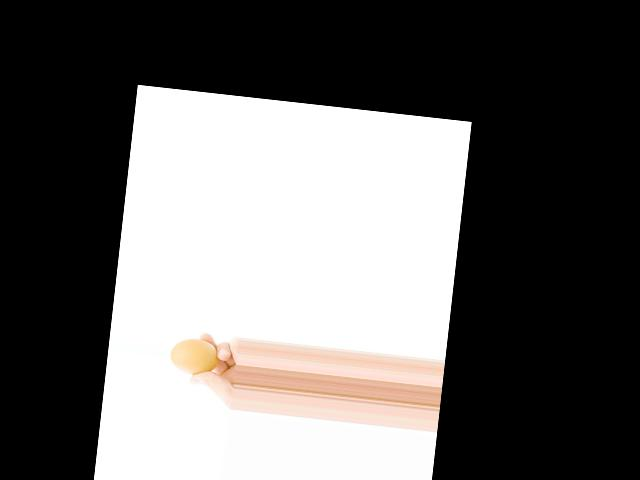egg: (168, 335, 219, 376)
